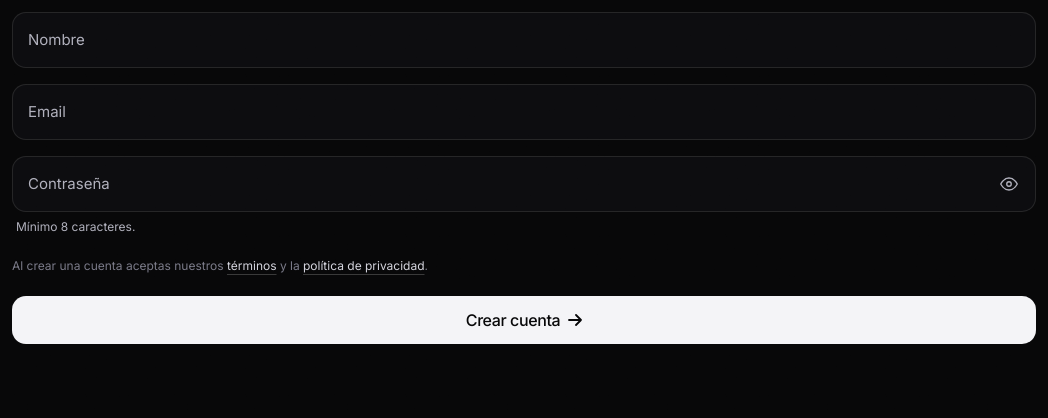
Test case: RegisterForm › renders error state
This screenshot has width=1048, height=418.
In the field labelled "Email": (524, 112) [12,84,1036,140], type "a@b.com"
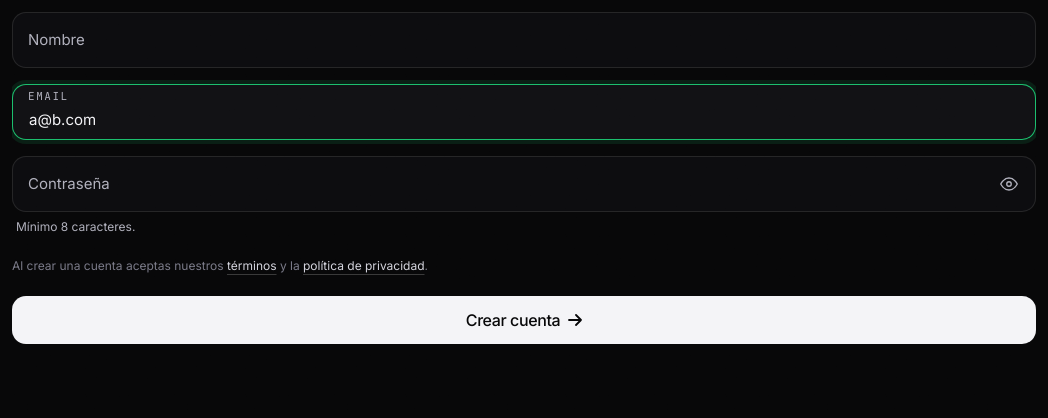
In the password field labelled "Contraseña": (524, 184) [12,156,1036,212], type "secret123"
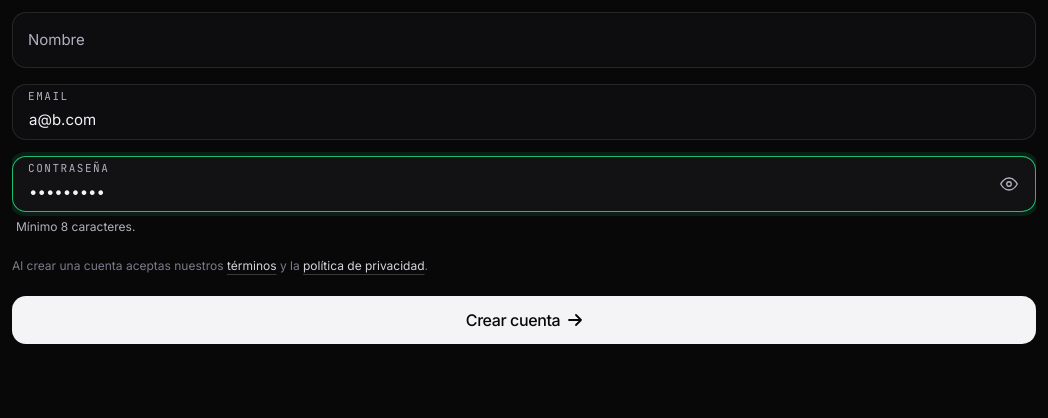
Click the button "Crear cuenta": click(524, 320) [12,296,1036,344]
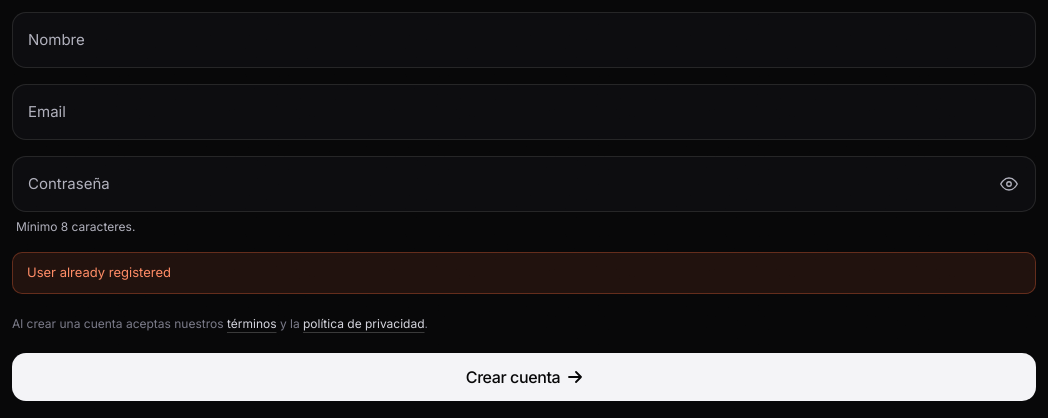
Now the message reads "User already registered", box [27,264,171,280]
